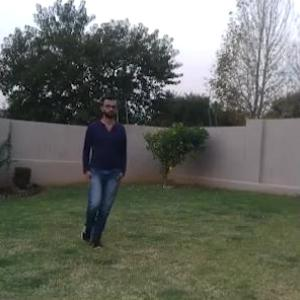follow: (83, 97, 124, 236)
